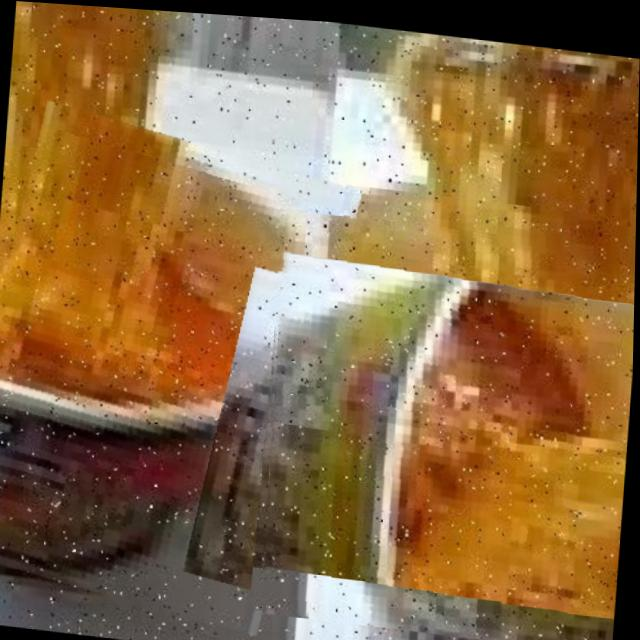Miscellaneous: (0, 106, 349, 627), (253, 203, 636, 640)
